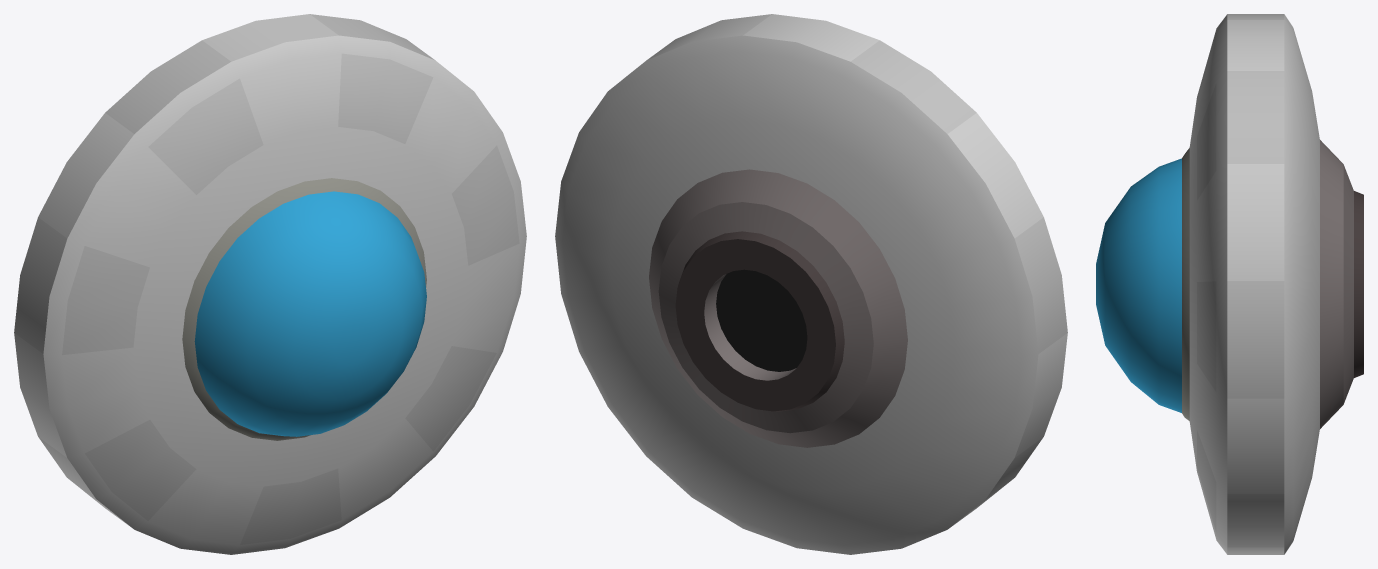
The model's file is Ufo2.fbx.
3 renders of one model, left to right at view 1: azimuth 30°, elevation 25°; view 2: azimuth 150°, elevation 25°; view 3: azimuth 270°, elevation 25°, orthographic. The views are drawn at different scales.
Parts seen in each view (by area): view 1: Mesh-Ufo; view 2: Mesh-Ufo; view 3: Mesh-Ufo.
Part boxes in pixels (x1=…): Mesh-Ufo: x1=14, y1=14, x2=526, y2=554; Mesh-Ufo: x1=555, y1=14, x2=1067, y2=554; Mesh-Ufo: x1=1096, y1=14, x2=1363, y2=554.
Bounding box in the file's own units: 2.78 × 2.78 × 1.38.
Materials: 1 (1 with a texture image).
